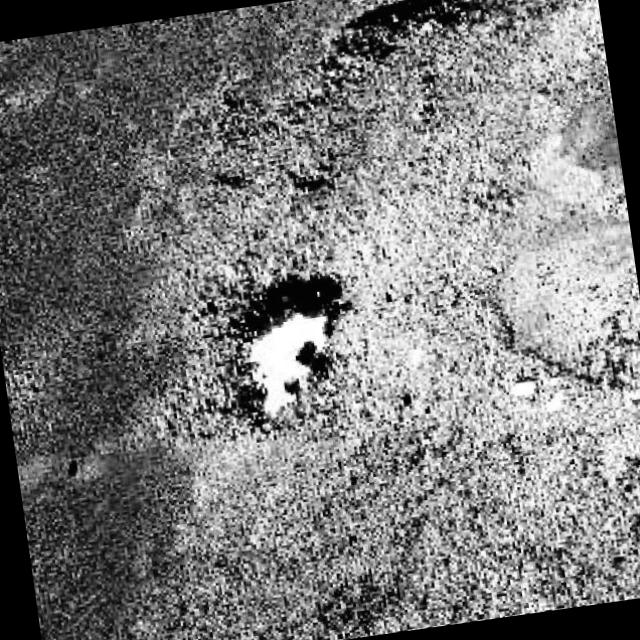Pothole: (196, 262, 375, 448)
